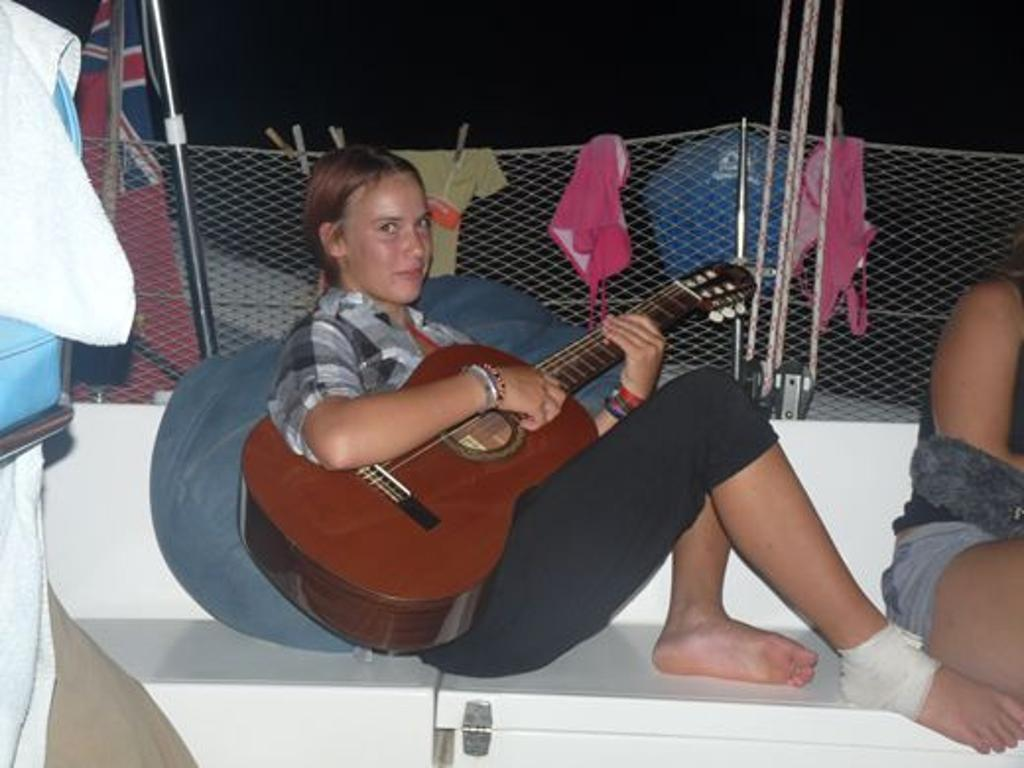face: (354, 172, 432, 300)
